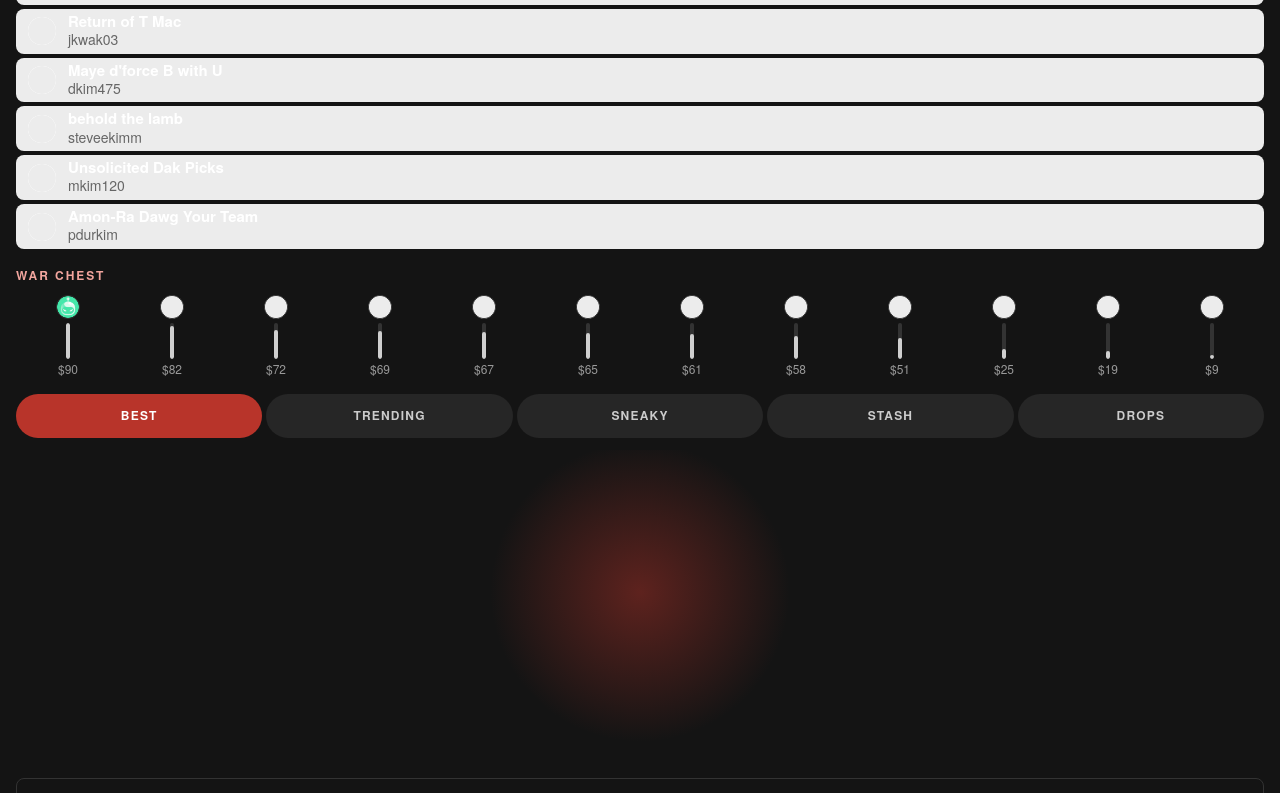
it: the drops bucket › names the holder on a drops row after the top six
The width and height of the screenshot is (1280, 793).
(page scrolled)
What coordinates should you click on to do the following:
click the button "Drops"
I would click on:
 (1141, 416)
Its box is [1018,394,1264,438].
(page scrolled)
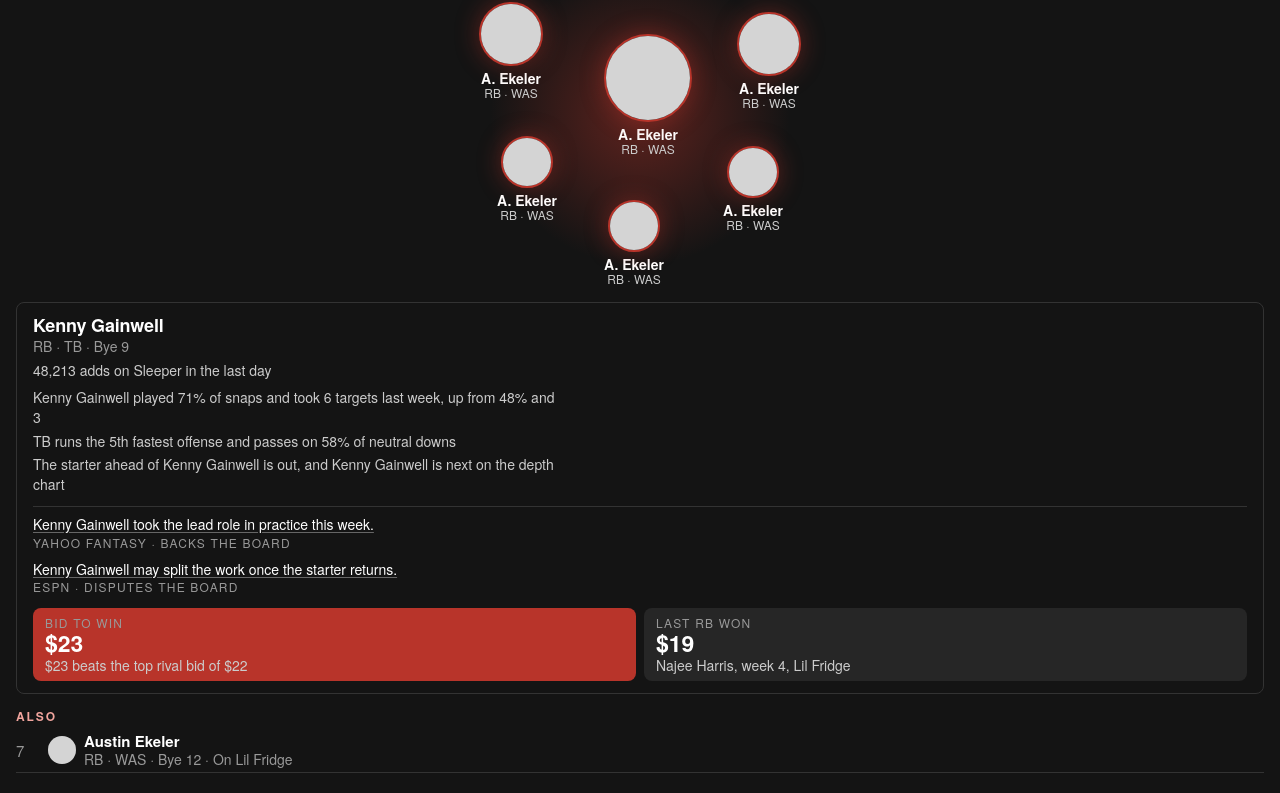
expect the text "RB · WAS · Bye 12 · On Lil Fridge" is shown: met, box [84,749,292,769]
